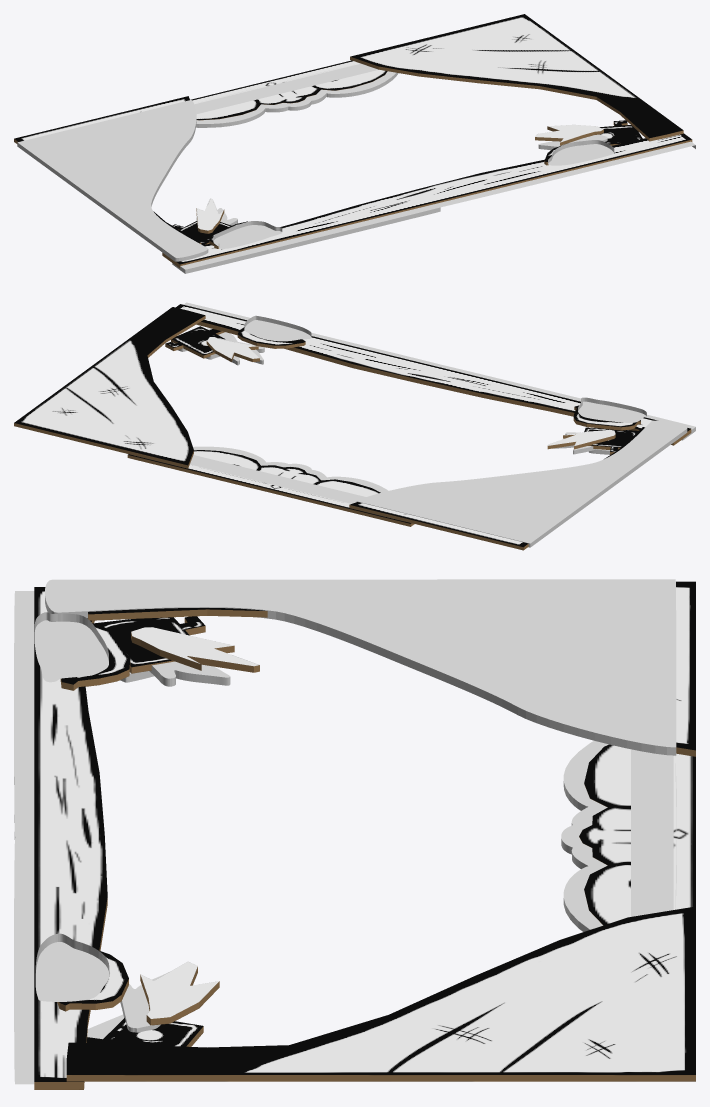
Rendered from testcadre1.glb.
The picture shows the model from 3 angles, top to bottom: view 1: azimuth 30°, elevation 25°; view 2: azimuth 150°, elevation 25°; view 3: azimuth 270°, elevation 25°; orthographic projection. The views are drawn at different scales.
Visible parts, largest first — view 1: Plane.001, rideaux, bas, haut, caillougauche, cailloudroit; view 2: Plane.001, rideaux, haut, bas, caillougauche, cailloudroit; view 3: Plane.001, rideaux, haut, bas, caillougauche, cailloudroit, flashgauche, flashdroite.
Boxes of the visible parts, x1,y1,x2,y2 form: Plane.001: (14, 14, 692, 268); rideaux: (17, 100, 208, 261); bas: (172, 141, 695, 273); haut: (194, 63, 398, 127); caillougauche: (213, 221, 282, 248); cailloudroit: (548, 140, 614, 165); Plane.001: (14, 304, 691, 550); rideaux: (356, 420, 687, 547); haut: (190, 446, 388, 503); bas: (183, 302, 695, 440); caillougauche: (578, 397, 646, 422); cailloudroit: (244, 315, 311, 341); Plane.001: (34, 581, 695, 1089); rideaux: (45, 579, 676, 755); haut: (561, 740, 676, 931); bas: (14, 591, 34, 1084); caillougauche: (34, 612, 108, 682); cailloudroit: (35, 933, 109, 1001); flashgauche: (149, 661, 230, 686); flashdroite: (120, 972, 168, 1032).
Size of the model in its own units: 5.02 by 0.1732 by 2.92.
Materials: 2 (1 with a texture image).
